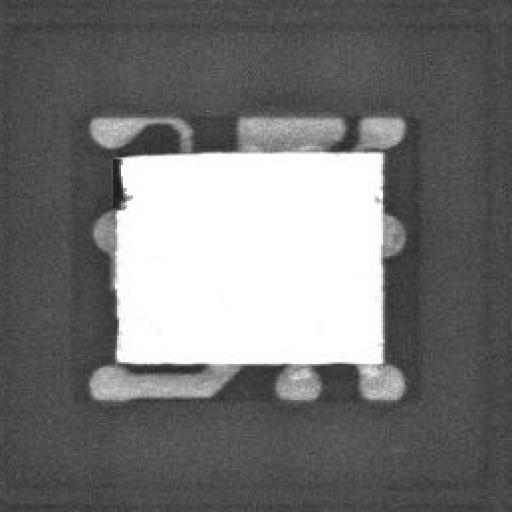DIE_BROKEN: (103, 150, 131, 212)
